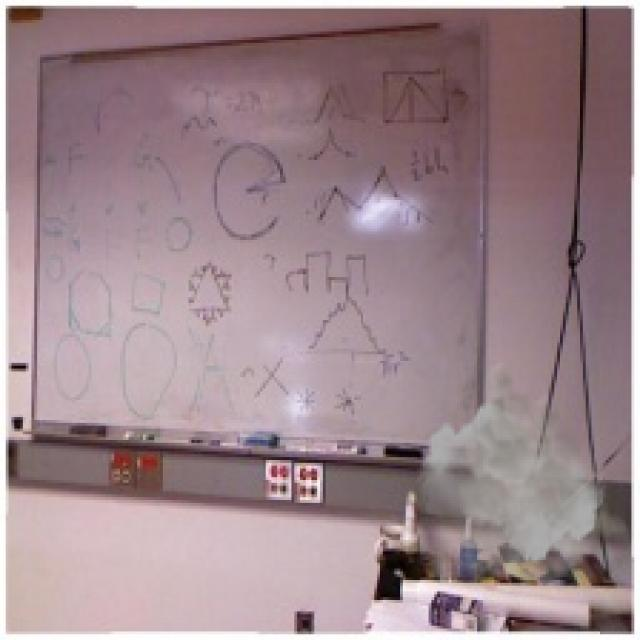Smoke: (417, 357, 634, 594)
